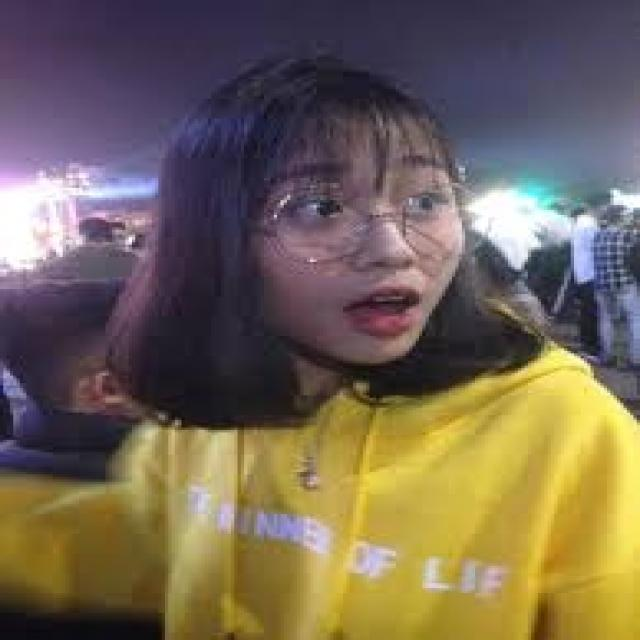Glasses: (248, 183, 502, 267)
